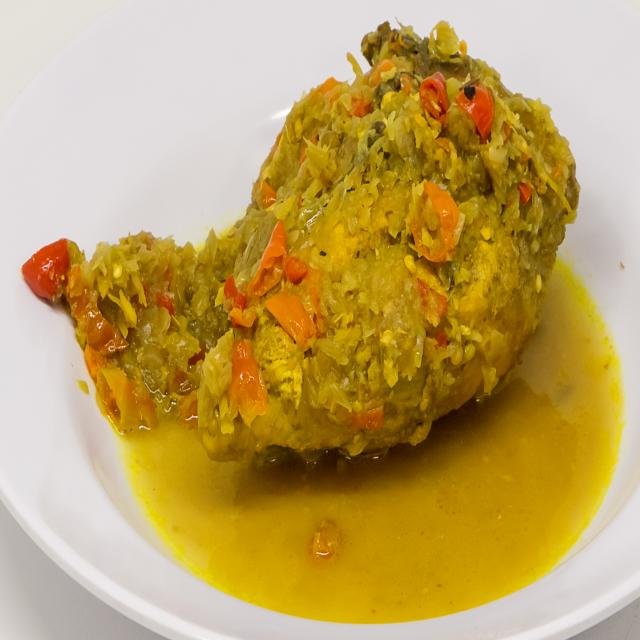Ayam-Betutu: (63, 7, 583, 477)
